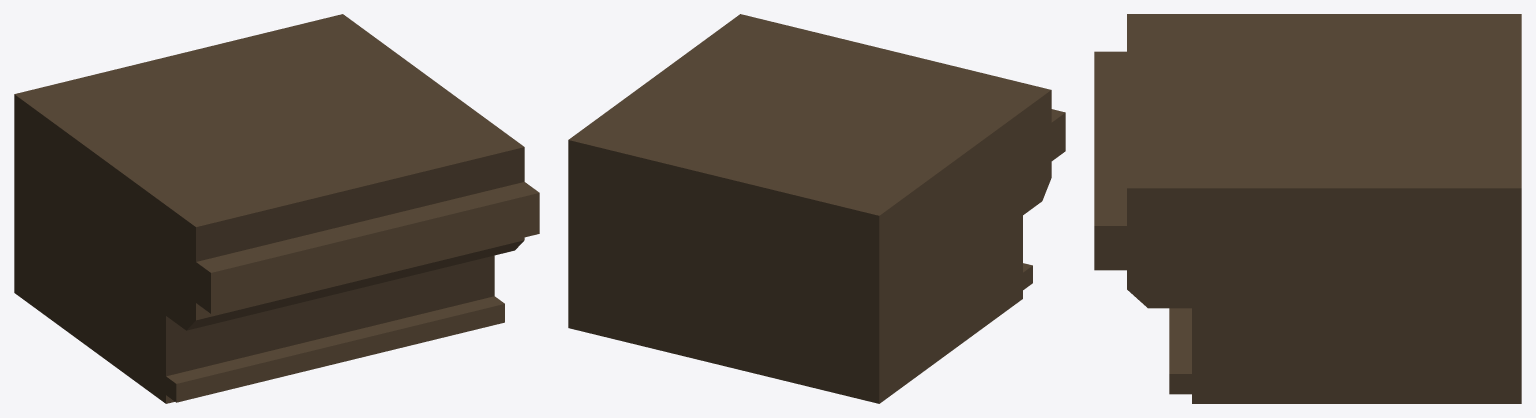
Rendered from SM_Prop_Bar_Upper_Half_01.obj.
3 views of the same model, side by side, from view 1: azimuth 30°, elevation 25°; view 2: azimuth 150°, elevation 25°; view 3: azimuth 270°, elevation 25° (orthographic). The views are drawn at different scales.
Parts seen in each view (by area): view 1: SM_Prop_Bar_Upper_Half_01_0, SM_Prop_Bar_Upper_Half_01_1; view 2: SM_Prop_Bar_Upper_Half_01_0; view 3: SM_Prop_Bar_Upper_Half_01_0.
Boxes of the visible parts, x1,y1,x2,y2 form: SM_Prop_Bar_Upper_Half_01_0: (14, 14, 539, 403); SM_Prop_Bar_Upper_Half_01_1: (166, 255, 494, 376); SM_Prop_Bar_Upper_Half_01_0: (568, 14, 1065, 403); SM_Prop_Bar_Upper_Half_01_0: (1094, 14, 1521, 403).
Size of the model in its own units: 1.25 by 0.7222 by 1.3.
2 materials, 2 textured.
